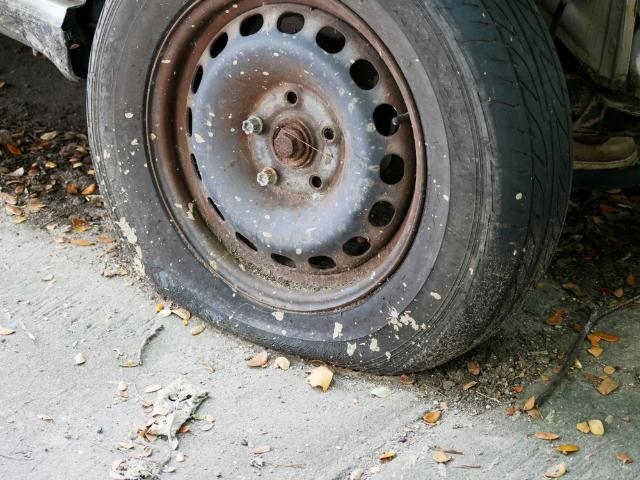tire flat: (87, 0, 573, 374)
